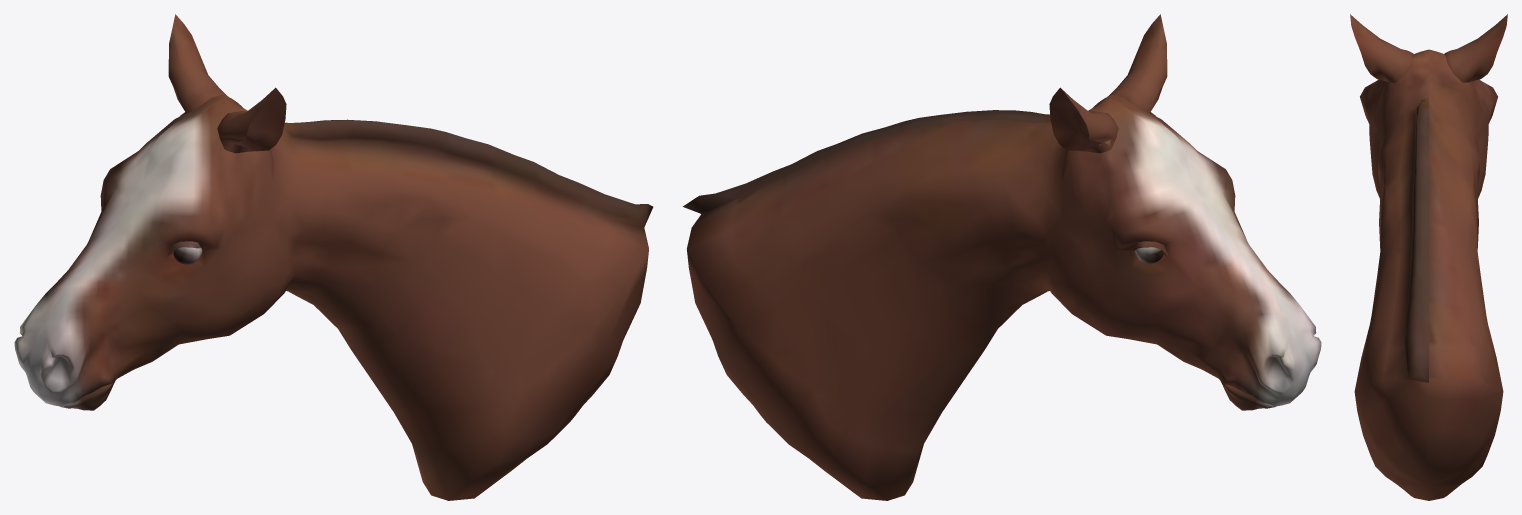
File: Horse_Head_0.FBX
3 views of the same model, side by side, from view 1: azimuth 30°, elevation 25°; view 2: azimuth 150°, elevation 25°; view 3: azimuth 270°, elevation 25° (orthographic). The views are drawn at different scales.
Visible parts, largest first — view 1: Horse_Head_0; view 2: Horse_Head_0; view 3: Horse_Head_0.
Boxes of the visible parts, x1=… form: Horse_Head_0: x1=14, y1=14, x2=653, y2=500; Horse_Head_0: x1=683, y1=14, x2=1321, y2=500; Horse_Head_0: x1=1350, y1=14, x2=1507, y2=500.
Bounding box in the file's own units: 2.75 × 2.11 × 0.7654.
